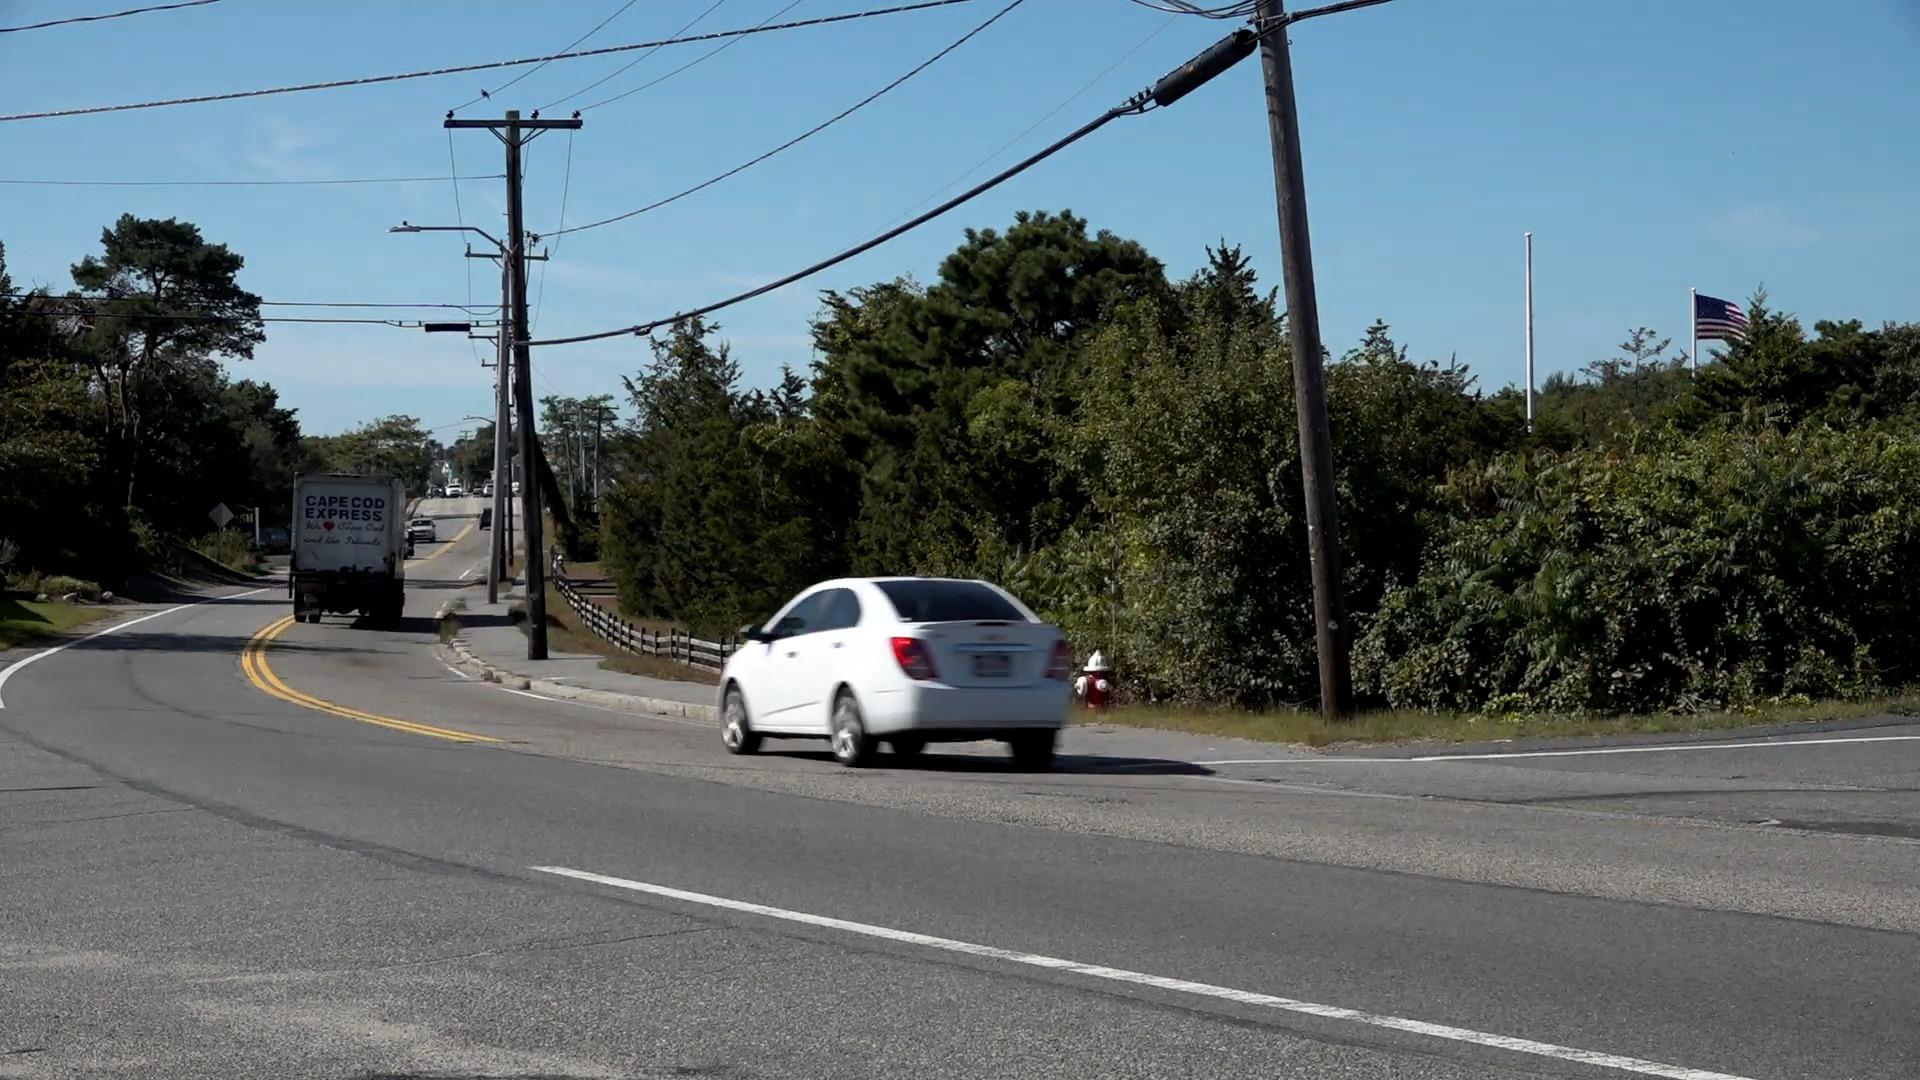sedans: (719, 574, 1079, 771)
truck: (289, 473, 410, 631)
